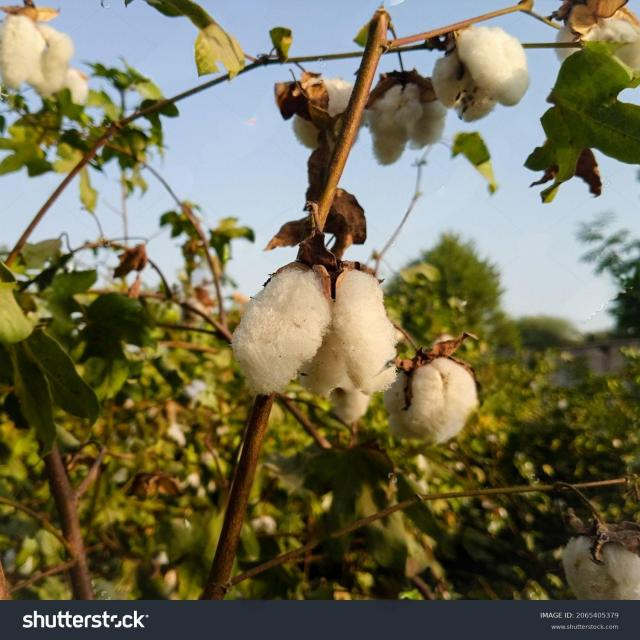Leaf: (202, 237, 417, 418), (362, 314, 486, 455), (531, 492, 640, 602), (421, 35, 547, 129), (0, 0, 90, 107)
